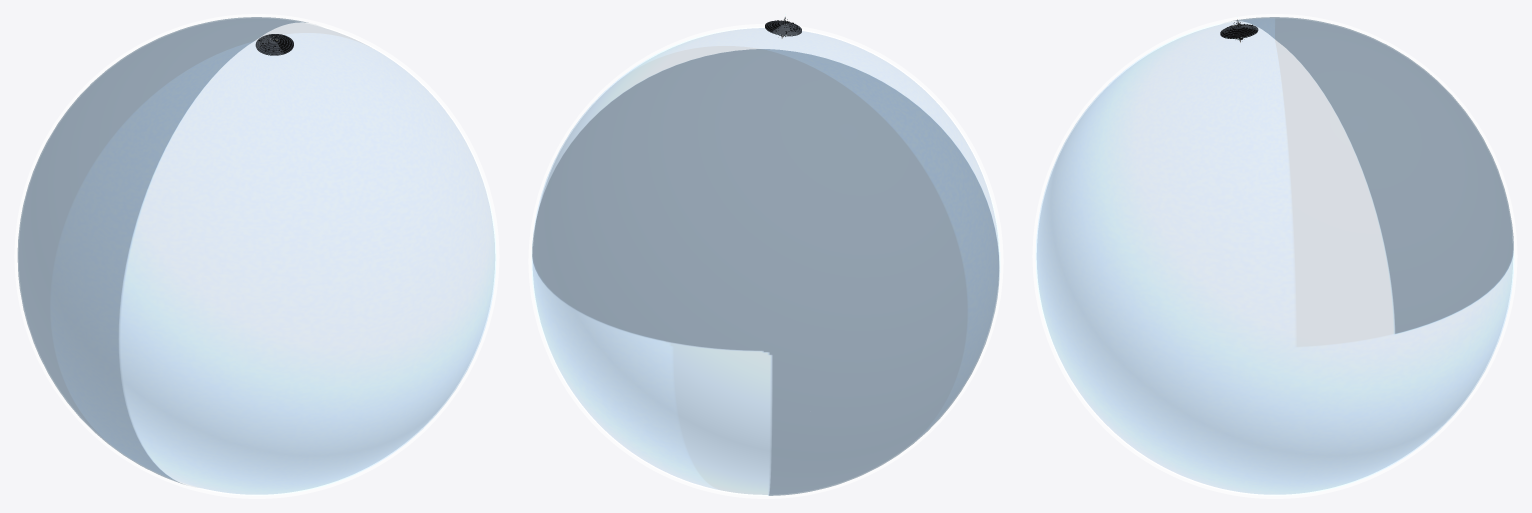
Rendered from crystal_palace.glb.
The picture shows the model from 3 angles, left to right: view 1: azimuth 30°, elevation 25°; view 2: azimuth 150°, elevation 25°; view 3: azimuth 270°, elevation 25°; orthographic projection. The views are drawn at different scales.
Visible parts, largest first — view 1: Horizon_Planet_Atmosphere_Limb, Horizon_Planet_Clouds, Horizon_Planet_Surface; view 2: Horizon_Planet_Atmosphere_Limb, Horizon_Planet_Clouds, Horizon_Planet_Surface; view 3: Horizon_Planet_Atmosphere_Limb, Horizon_Planet_Clouds, Horizon_Planet_Surface.
Boxes of the visible parts, x1=… form: Horizon_Planet_Atmosphere_Limb: x1=14, y1=14, x2=499, y2=498; Horizon_Planet_Clouds: x1=17, y1=17, x2=496, y2=495; Horizon_Planet_Surface: x1=19, y1=19, x2=494, y2=493; Horizon_Planet_Atmosphere_Limb: x1=528, y1=24, x2=1003, y2=498; Horizon_Planet_Clouds: x1=531, y1=27, x2=1000, y2=495; Horizon_Planet_Surface: x1=533, y1=28, x2=998, y2=494; Horizon_Planet_Atmosphere_Limb: x1=1032, y1=14, x2=1517, y2=498; Horizon_Planet_Clouds: x1=1035, y1=17, x2=1514, y2=495; Horizon_Planet_Surface: x1=1037, y1=19, x2=1512, y2=493.
Size of the model in its own units: 326 by 340 by 326.
Materials: 8 (4 with a texture image).
